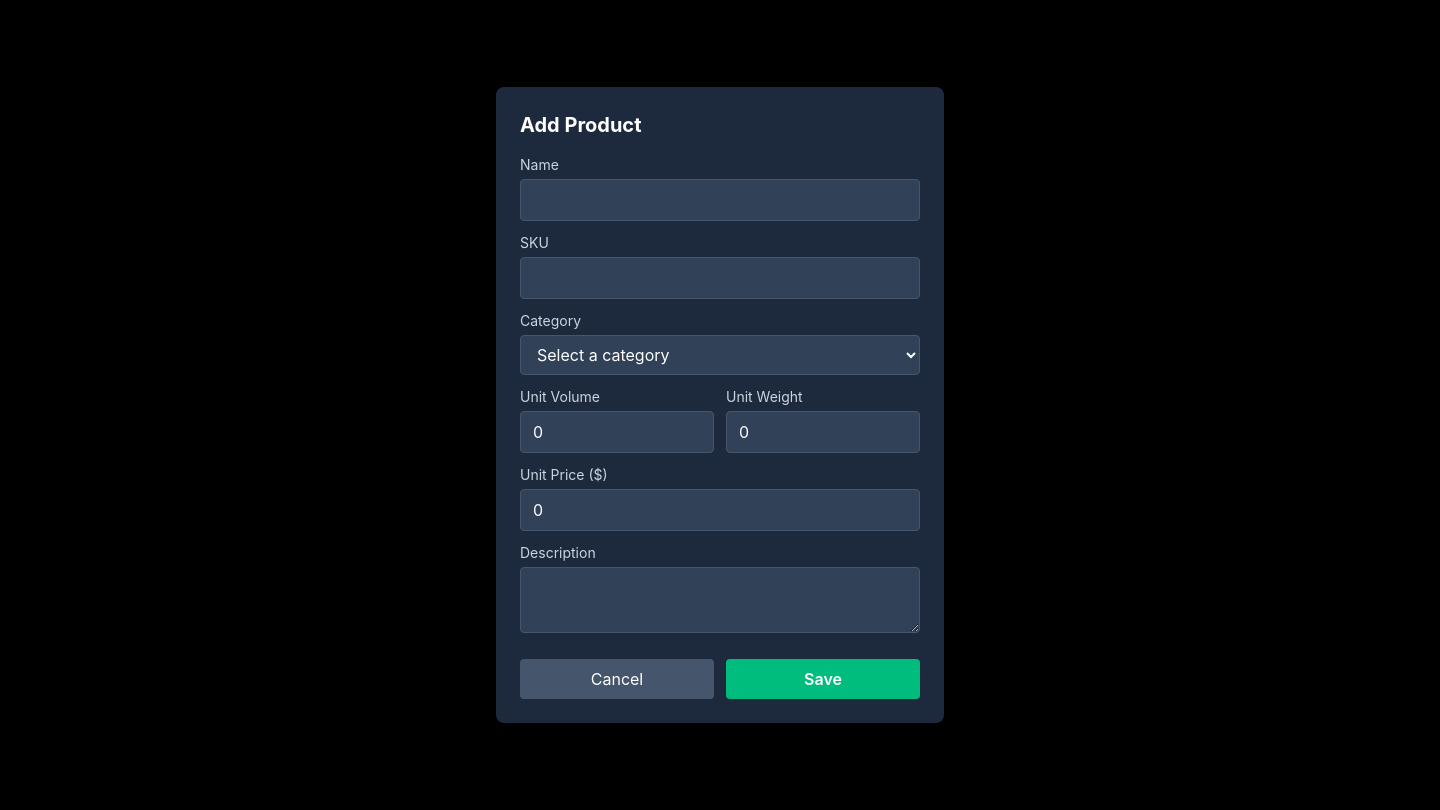
Test case: ProductFormModal › shows an error if the category field is left blank and form submission is forced
This screenshot has width=1440, height=810.
Type "New Item" into the field labelled "Name" at {"x": 720, "y": 200}, box [520,179,920,221]
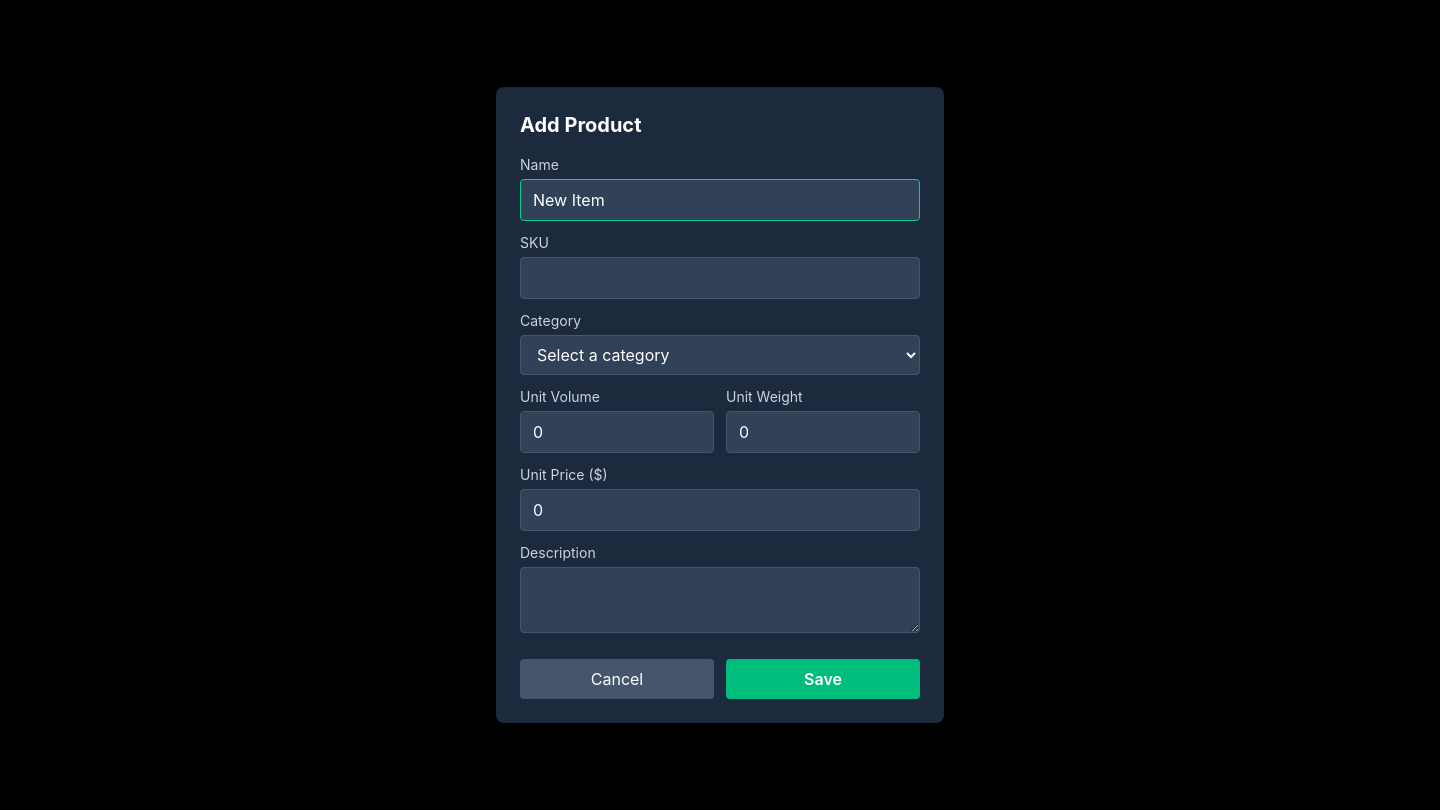
Type "NI001" into the field labelled "SKU" at {"x": 720, "y": 278}, box [520,257,920,299]
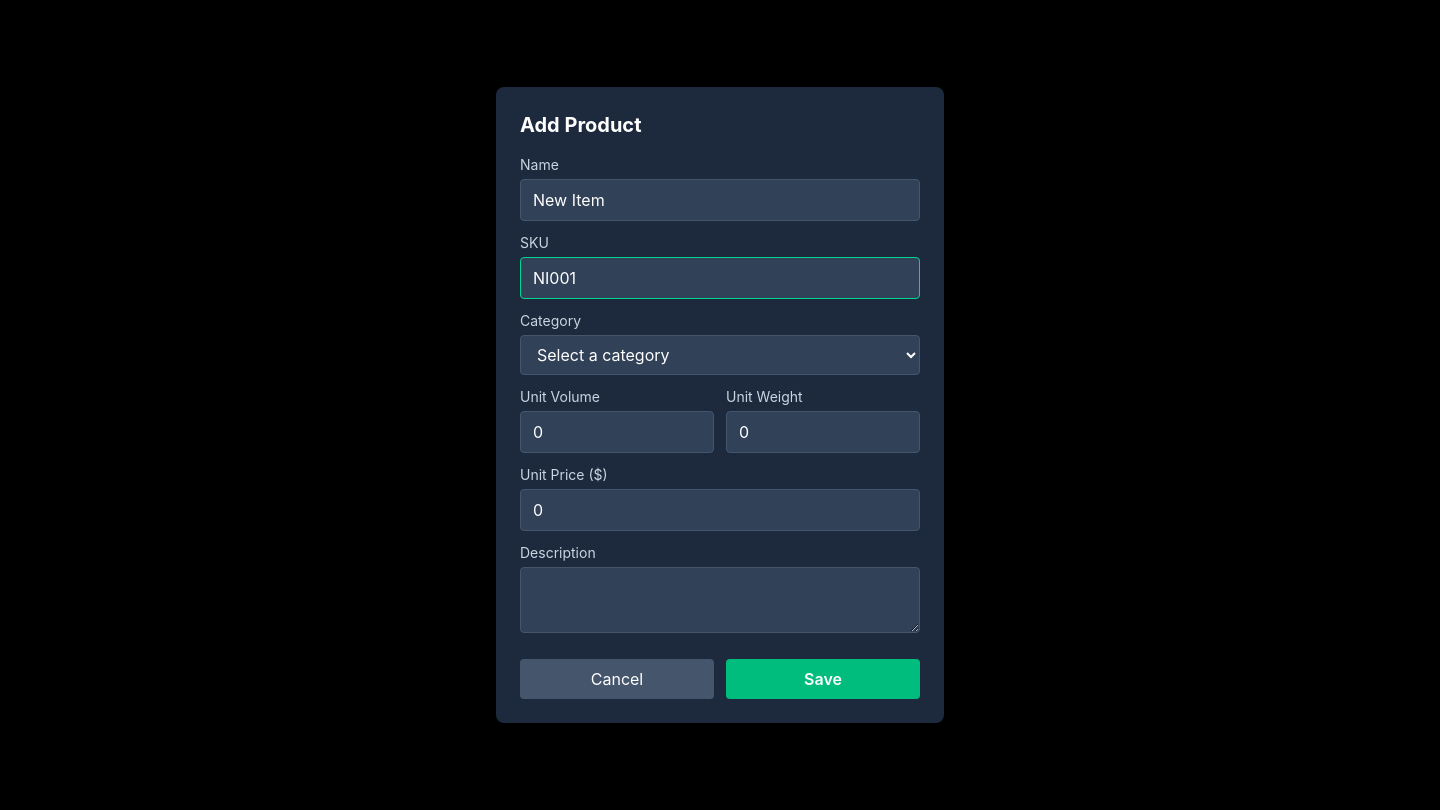
Click the button "Save" at {"x": 823, "y": 679}, box [726,659,920,699]
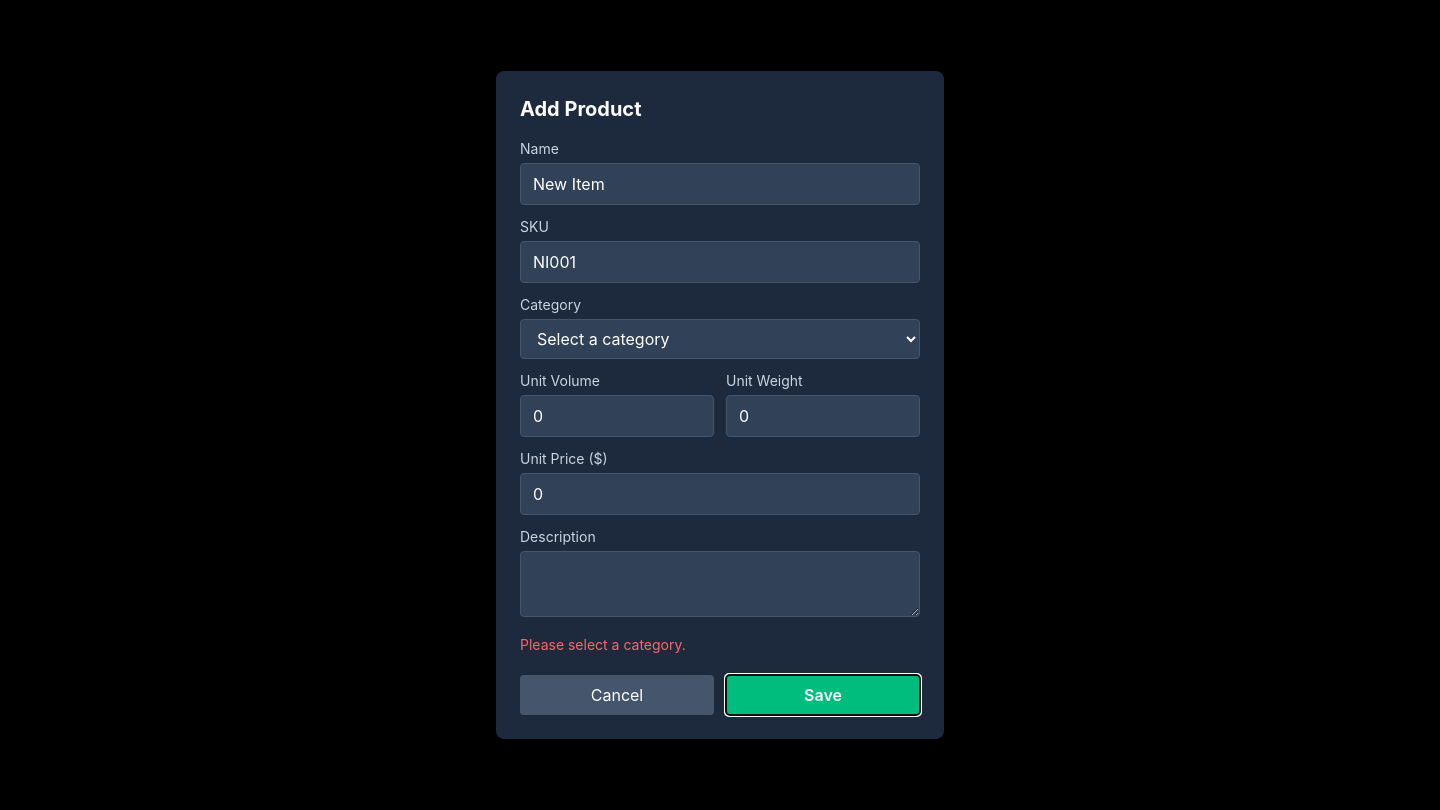
Check: the text "Please select a category." is shown, box [520,636,686,653]
